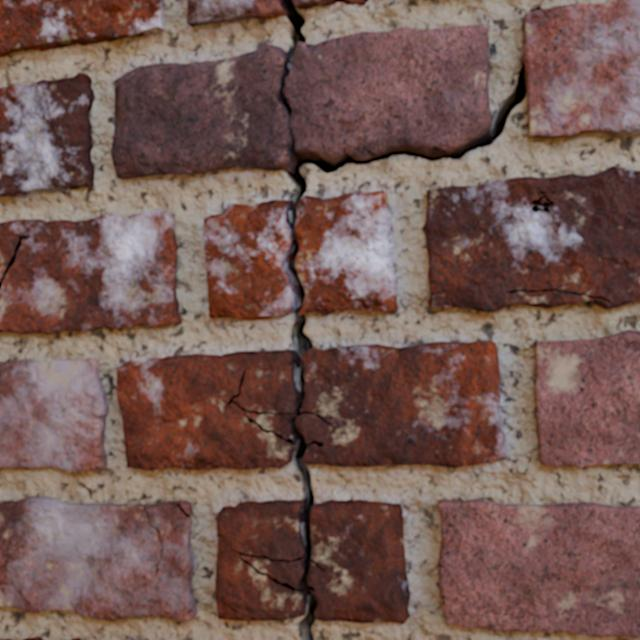broken_brick: (111, 24, 492, 179), (296, 341, 506, 467), (117, 349, 294, 470), (294, 191, 397, 314), (308, 500, 409, 624), (203, 200, 291, 320), (215, 500, 303, 620), (187, 0, 285, 26), (241, 555, 303, 587), (245, 411, 293, 438), (293, 0, 367, 8)
crack: (226, 0, 639, 639), (423, 166, 639, 311), (438, 498, 639, 638), (0, 496, 197, 622), (0, 210, 181, 334), (535, 330, 639, 467), (0, 357, 108, 471), (0, 73, 94, 198), (0, 0, 165, 56), (276, 0, 307, 118), (209, 290, 214, 318), (207, 256, 209, 288), (358, 190, 379, 193), (24, 637, 42, 639), (204, 218, 206, 233), (311, 47, 315, 52)
